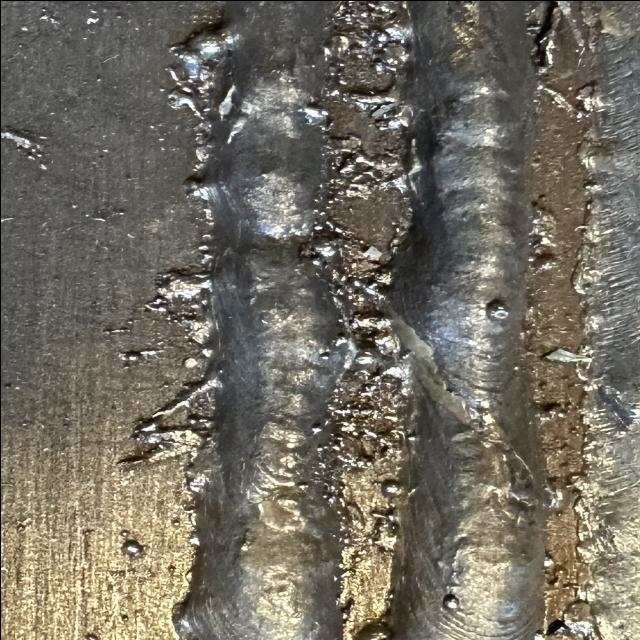Excess Reinforcement: (325, 0, 412, 130), (303, 233, 392, 310), (167, 24, 233, 118), (348, 309, 408, 394), (327, 134, 407, 196), (115, 419, 204, 465), (145, 271, 210, 322), (152, 370, 220, 416), (543, 600, 598, 640), (532, 1, 562, 74), (183, 438, 215, 499), (328, 431, 375, 469), (537, 81, 585, 118), (172, 596, 205, 640), (528, 202, 557, 252), (370, 509, 397, 554), (177, 314, 212, 344), (545, 477, 575, 512), (192, 119, 212, 171), (575, 84, 603, 115), (535, 402, 567, 424), (543, 348, 592, 361), (182, 176, 208, 200), (195, 236, 212, 265), (188, 532, 198, 546), (183, 569, 192, 581)
Spatters: (352, 621, 390, 640), (528, 252, 558, 274), (118, 349, 162, 361), (485, 299, 508, 320), (302, 106, 328, 124), (380, 479, 402, 499), (120, 539, 143, 558), (185, 414, 212, 428), (442, 594, 458, 609), (102, 326, 130, 334), (15, 518, 30, 531), (182, 356, 198, 368), (333, 333, 347, 345), (27, 148, 42, 159), (310, 422, 322, 434), (83, 632, 98, 640), (38, 8, 48, 19), (318, 351, 330, 360), (85, 16, 98, 24), (122, 360, 133, 369), (297, 481, 308, 490), (118, 529, 128, 538), (118, 614, 128, 622), (170, 518, 180, 526), (167, 565, 175, 574), (113, 208, 125, 214), (202, 232, 212, 239), (47, 16, 58, 22), (3, 382, 12, 389), (20, 25, 28, 31), (95, 76, 102, 81), (148, 124, 153, 128), (160, 147, 165, 150), (17, 43, 22, 46)
